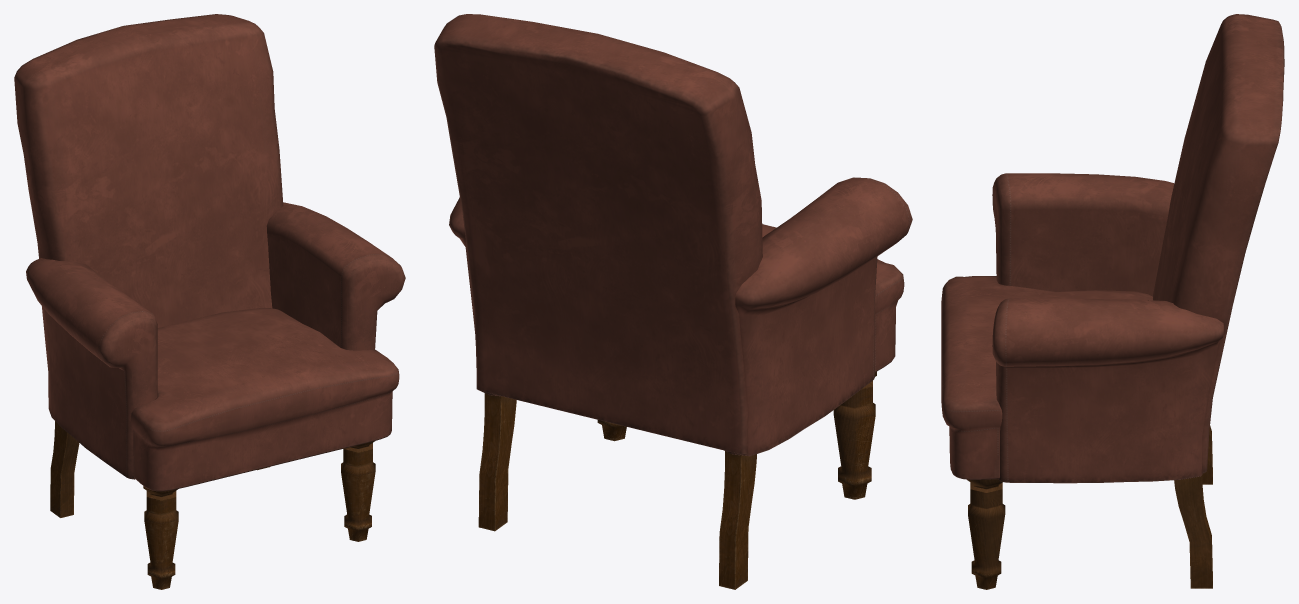
The model's file is old_armchair.glb.
3 renders of one model, left to right at view 1: azimuth 30°, elevation 25°; view 2: azimuth 150°, elevation 25°; view 3: azimuth 270°, elevation 25°, orthographic. The views are drawn at different scales.
Parts seen in each view (by area): view 1: old_armchair; view 2: old_armchair; view 3: old_armchair.
Part boxes in pixels (x1,y1,x2,y2): old_armchair: (14,14,405,589); old_armchair: (434,14,912,589); old_armchair: (941,14,1284,589).
Size of the model in its own units: 0.7513 by 1.03 by 0.6756.
1 material, 1 textured.
